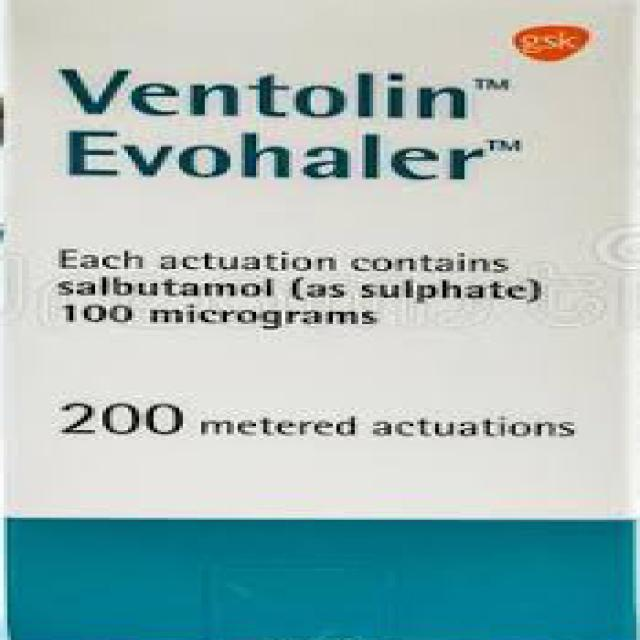drug-name: (57, 62, 524, 189)
